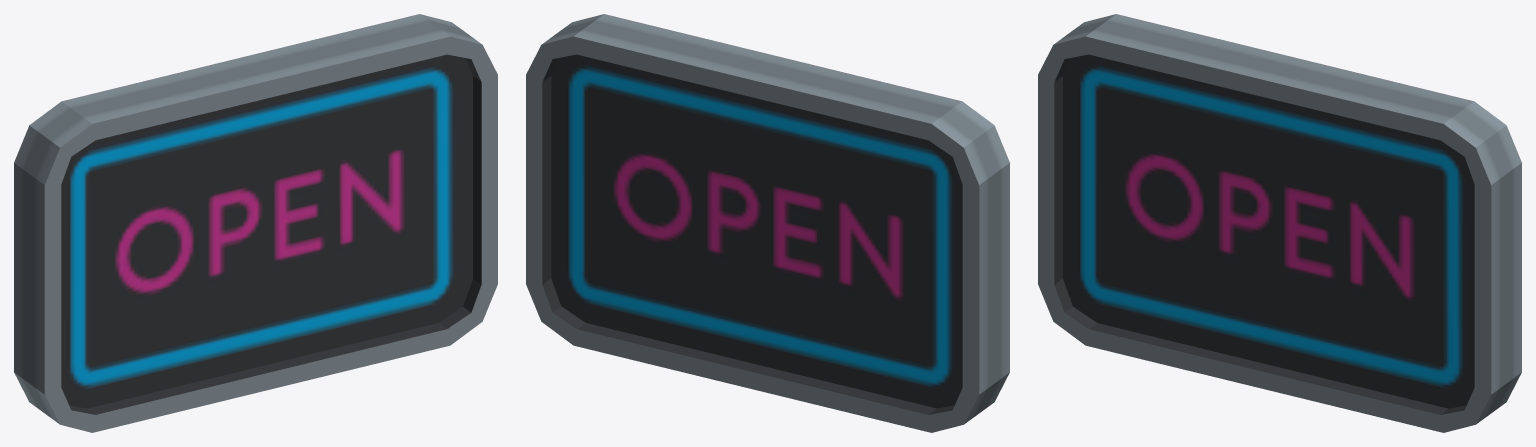
Rendered from SM_Sign_Neon_Open_03.obj.
3 views of the same model, side by side, from view 1: azimuth 30°, elevation 25°; view 2: azimuth 150°, elevation 25°; view 3: azimuth 330°, elevation 25° (orthographic).
Parts seen in each view (by area): view 1: SM_Sign_Neon_Open_03_0; view 2: SM_Sign_Neon_Open_03_0; view 3: SM_Sign_Neon_Open_03_0.
Boxes of the visible parts, x1,y1,x2,y2 form: SM_Sign_Neon_Open_03_0: [14, 14, 497, 432]; SM_Sign_Neon_Open_03_0: [526, 14, 1009, 432]; SM_Sign_Neon_Open_03_0: [1038, 14, 1521, 432].
Bounding box in the file's own units: 1.37 × 0.8923 × 0.1611.
1 material, 1 textured.
